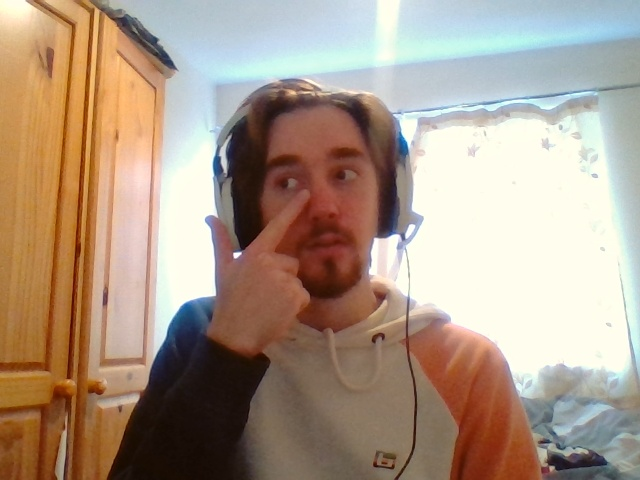luck: (205, 189, 310, 329)
